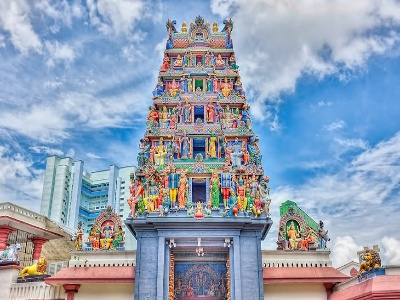gopura: (122, 20, 274, 220)
